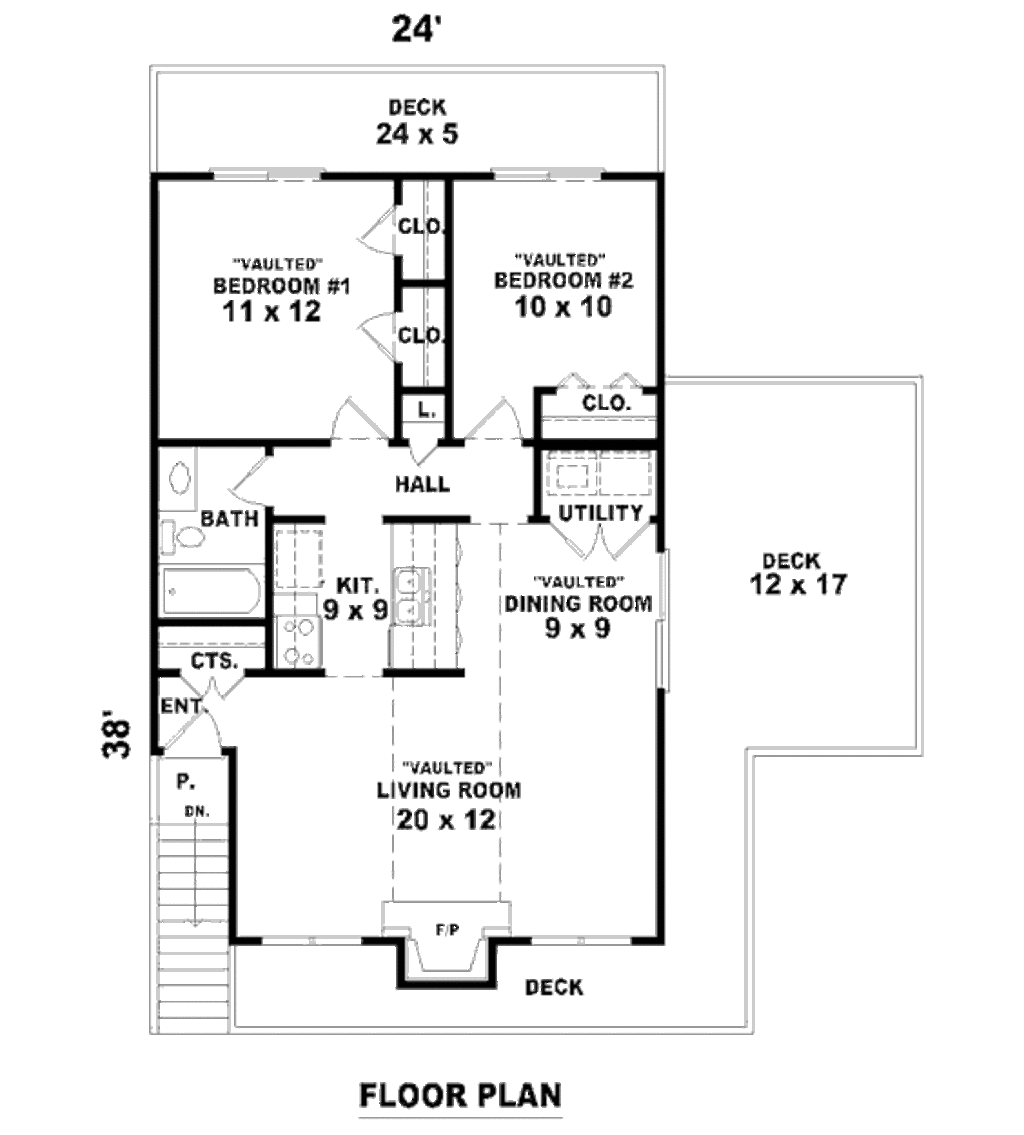door: (312, 395, 391, 441), (219, 456, 274, 510), (353, 306, 400, 366), (356, 197, 398, 256), (468, 396, 523, 441)
large_sink: (159, 509, 212, 560)
small_sink: (156, 443, 197, 508)
stairs: (151, 753, 240, 1032)
tub: (154, 566, 266, 620), (542, 515, 652, 562)
twin_sink: (389, 561, 439, 629)
windows: (485, 162, 601, 189), (653, 550, 671, 695), (207, 168, 327, 186)
